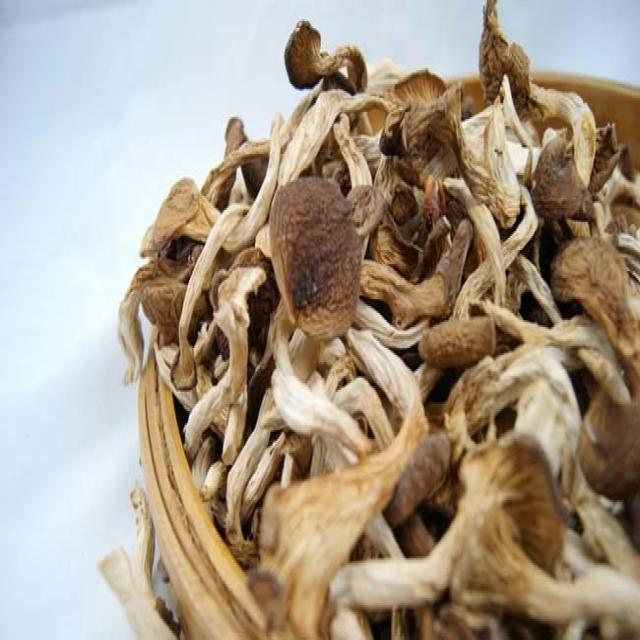Hypsizygus marmoreus: (116, 0, 640, 640)
